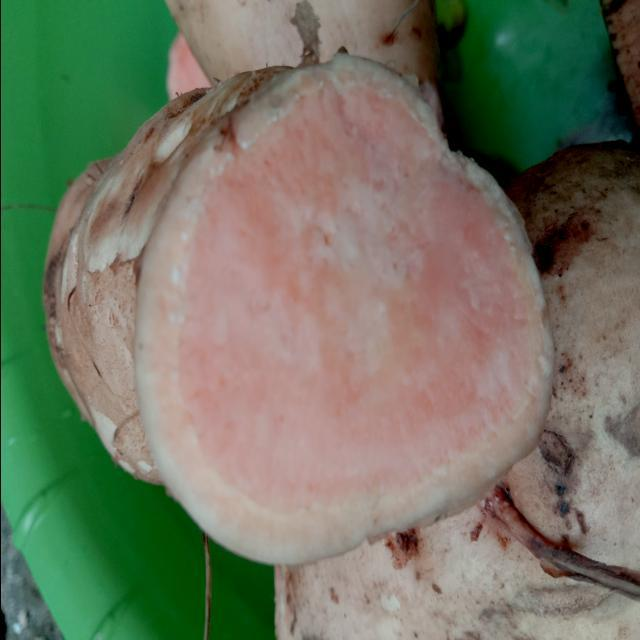Healthy Sweet Potato: (134, 55, 552, 563)
